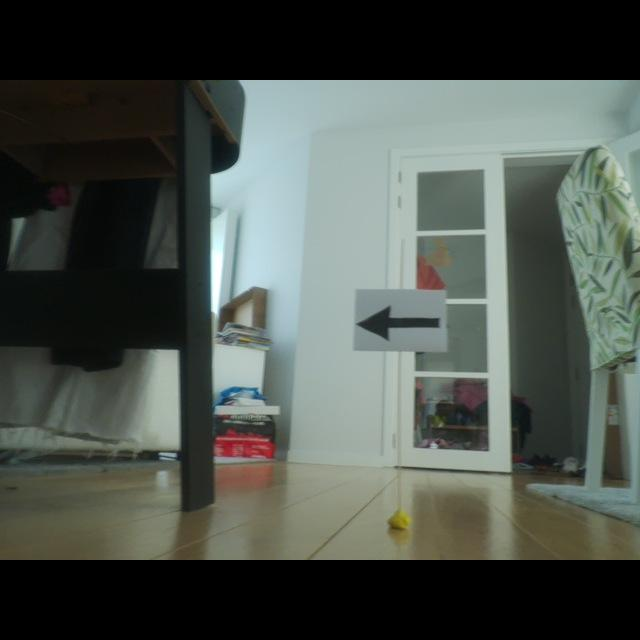balra_nyil: (357, 306, 439, 344)
